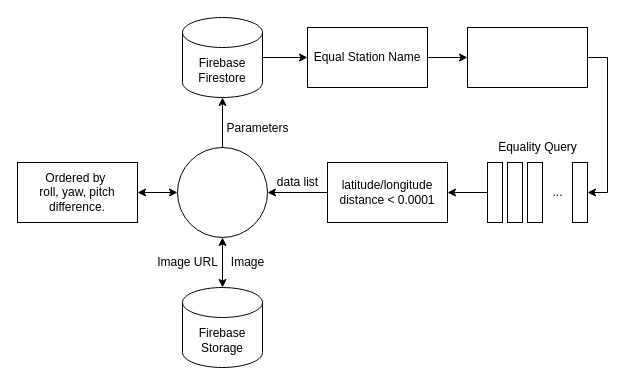
Image size: 633x385. Some labels were removed from this diagram. Each missing label, with the centre of its shape:
"Cameraless Photography" goes at point 222,192.
"Equal Weather" goes at point 527,57.
